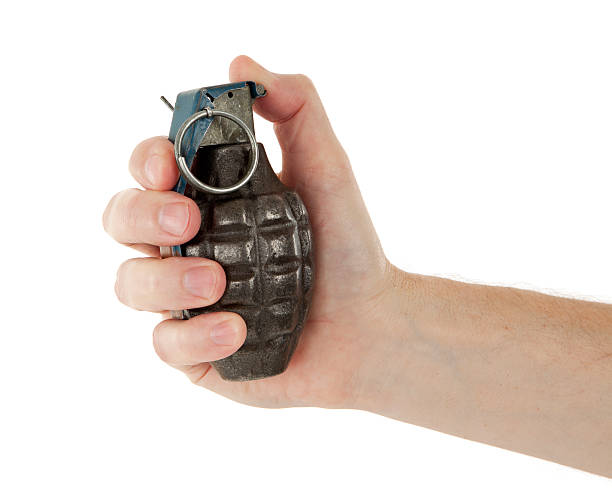e1: (157, 79, 311, 381)
